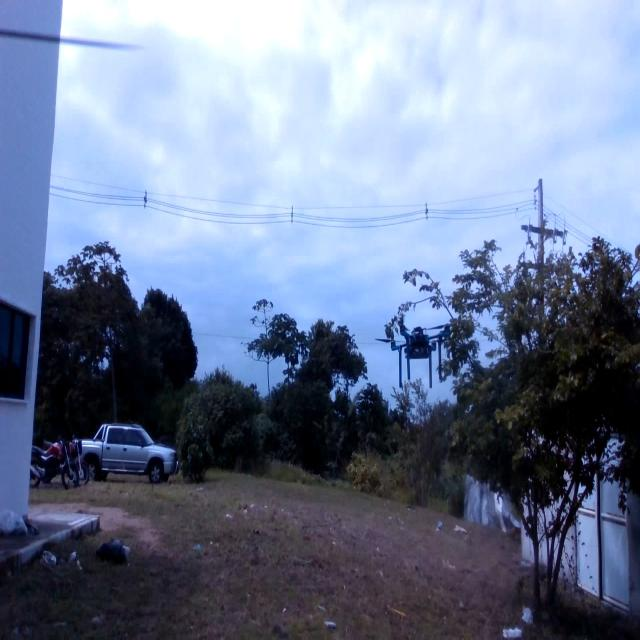-uav-: (372, 292, 456, 403)
